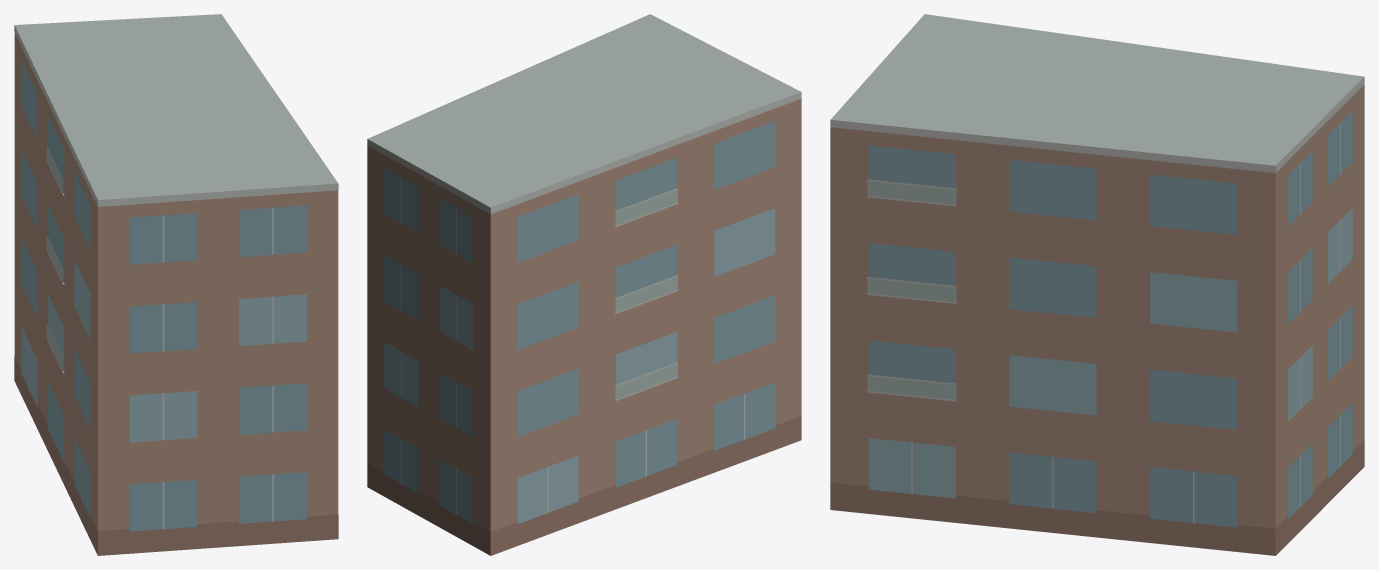
Rendered from survey-upis-32471126.glb.
The picture shows the model from 3 angles, left to right: view 1: azimuth 30°, elevation 25°; view 2: azimuth 150°, elevation 25°; view 3: azimuth 270°, elevation 25°; orthographic projection. The views are drawn at different scales.
Parts seen in each view (by area): view 1: survey-upis-32471126.tmp; view 2: survey-upis-32471126.tmp; view 3: survey-upis-32471126.tmp.
Boxes of the visible parts, x1=… form: survey-upis-32471126.tmp: x1=14, y1=14, x2=338, y2=555; survey-upis-32471126.tmp: x1=367, y1=14, x2=801, y2=555; survey-upis-32471126.tmp: x1=830, y1=14, x2=1364, y2=555.
Size of the model in its own units: 10.69 by 12.8 by 15.89.
